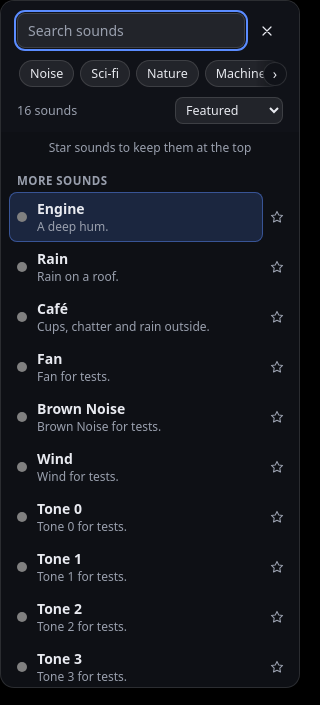
SoundList › searches, counts what matches, and makes the first match active
The width and height of the screenshot is (320, 705).
Later steps or results of the test are not shown.
Press ArrowDown in the dropdown labelled "Search sounds", box x1=17 y1=13 x2=245 y2=48
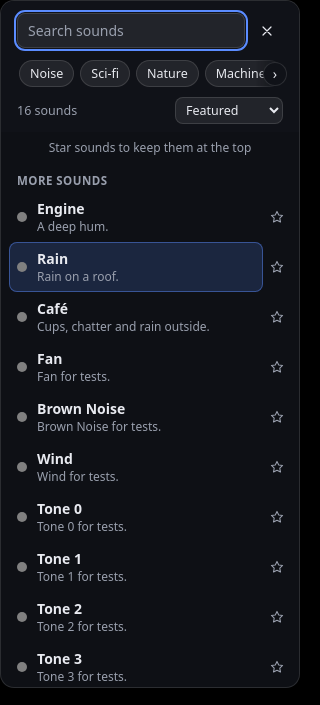
In the dropdown labelled "Search sounds": (131, 30) x1=17 y1=13 x2=245 y2=48, type "RAIN"
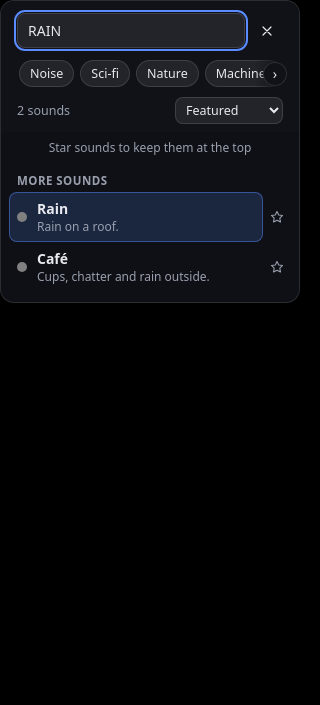
Expected: the text "Rain" is shown, x1=37 y1=199 x2=68 y2=218
Result: the message reads "2 sounds" at x1=17 y1=102 x2=70 y2=119
Replace the text in the dropdown named "Search sounds" with "cafe cups": (131, 30) x1=17 y1=13 x2=245 y2=48
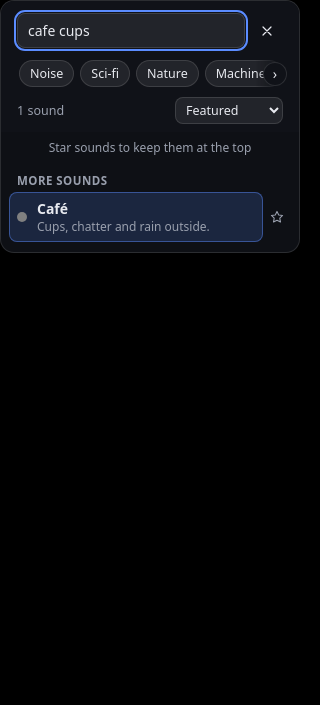
Result: the message reads "1 sound" at x1=17 y1=102 x2=64 y2=119
Replace the text in the dropdown named "Search sounds" with "nothing like this": (131, 30) x1=17 y1=13 x2=245 y2=48
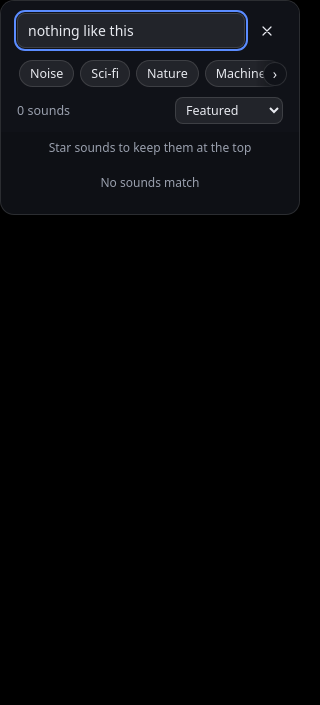
Result: the text "No sounds match" is shown at x1=100 y1=174 x2=200 y2=191
